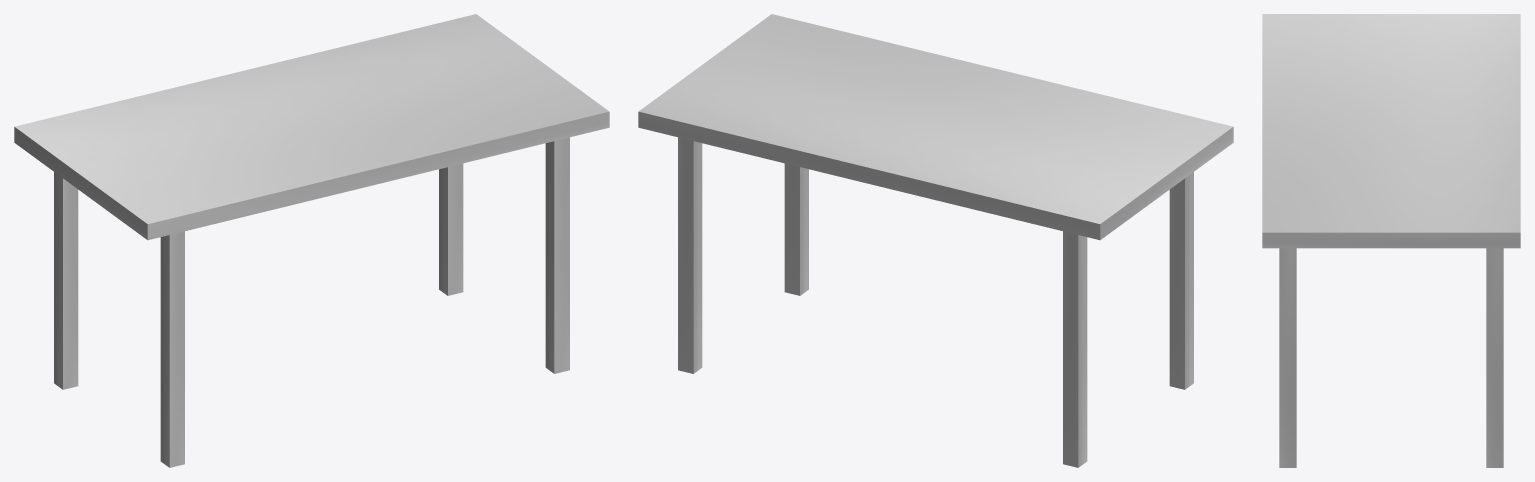
Rendered from table.gltf.
3 views of the same model, side by side, from view 1: azimuth 30°, elevation 25°; view 2: azimuth 150°, elevation 25°; view 3: azimuth 270°, elevation 25° (orthographic). The views are drawn at different scales.
Parts seen in each view (by area): view 1: table; view 2: table; view 3: table.
Boxes of the visible parts, left/top/right/bottom form: table: left=14, top=14, right=609, bottom=467; table: left=638, top=14, right=1233, bottom=467; table: left=1262, top=14, right=1520, bottom=467.
Size of the model in its own units: 6 by 3.2 by 3.
1 material, 1 textured.
